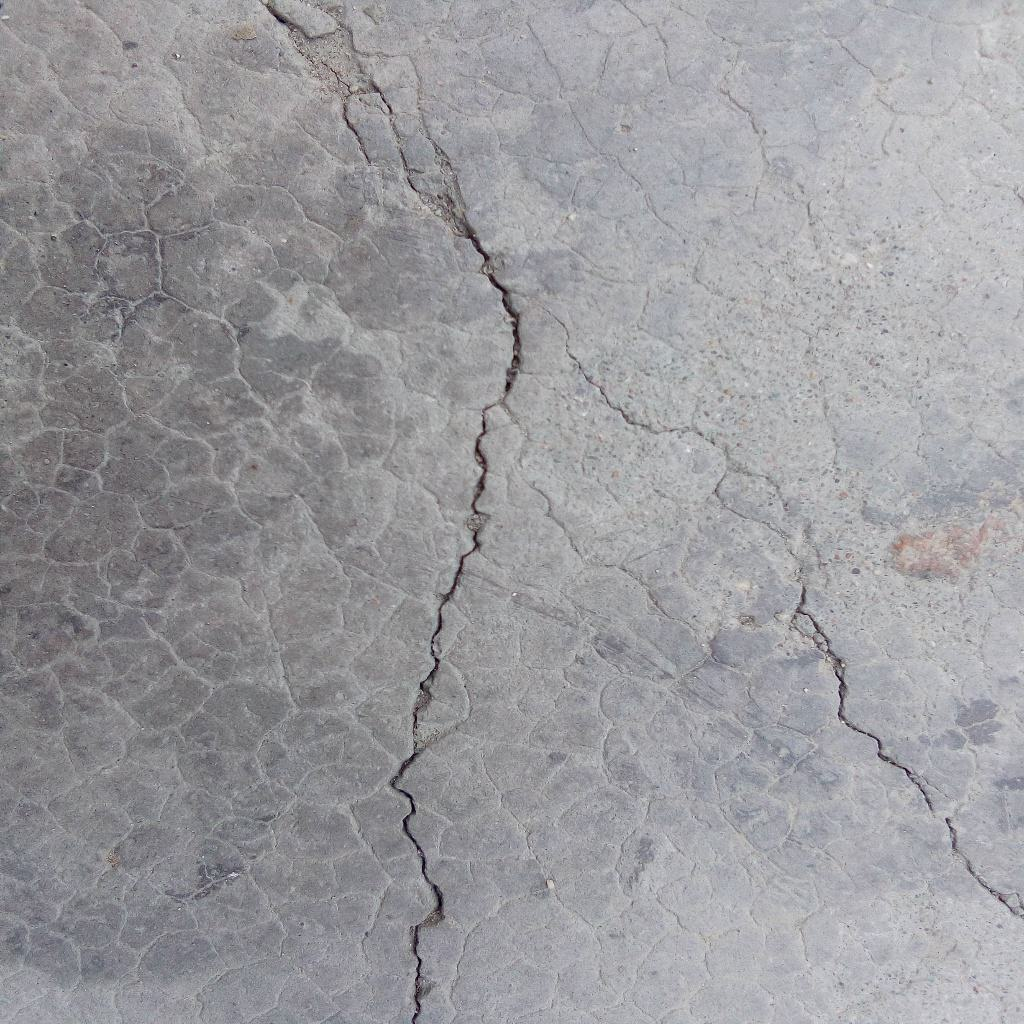Crack: (537, 303, 1024, 918), (262, 1, 525, 1024)
